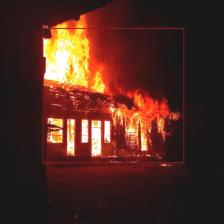fire: (42, 28, 184, 163)
